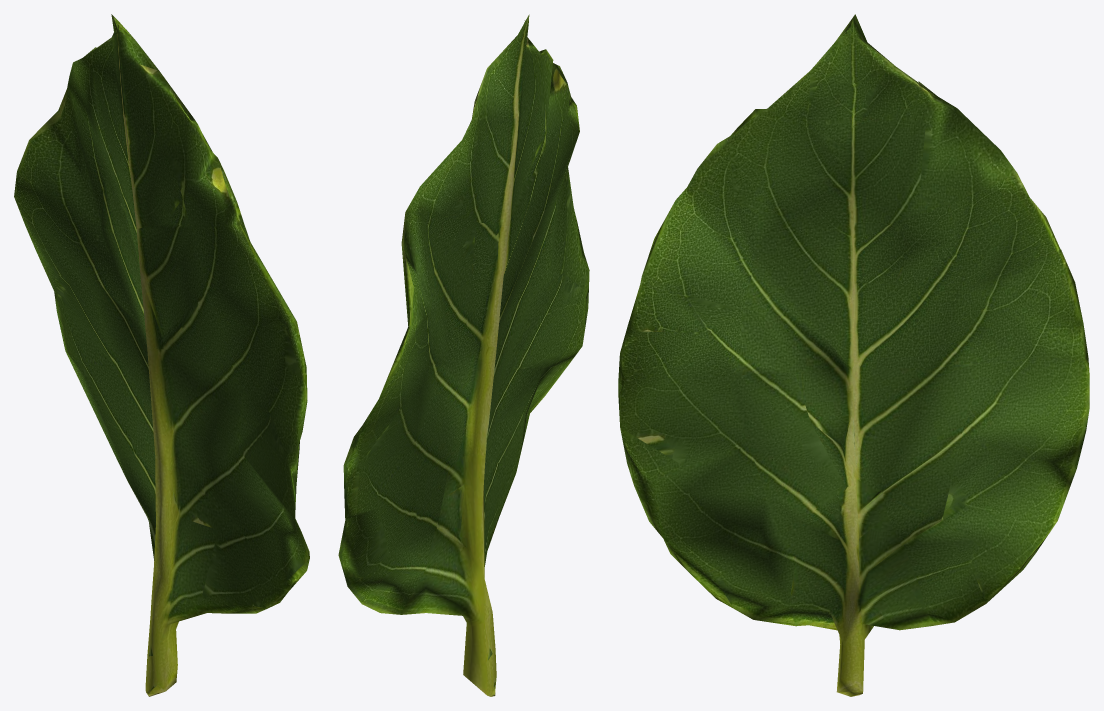
File: leafcard_lod1.glb
3 renders of one model, left to right at view 1: azimuth 30°, elevation 25°; view 2: azimuth 150°, elevation 25°; view 3: azimuth 270°, elevation 25°, orthographic. The views are drawn at different scales.
Parts seen in each view (by area): view 1: tripo_node_b59f5614-e054-414b-b1bf-3f1816f5cf16; view 2: tripo_node_b59f5614-e054-414b-b1bf-3f1816f5cf16; view 3: tripo_node_b59f5614-e054-414b-b1bf-3f1816f5cf16.
Part boxes in pixels (x1,y1,x2,y2): tripo_node_b59f5614-e054-414b-b1bf-3f1816f5cf16: [14, 14, 309, 696]; tripo_node_b59f5614-e054-414b-b1bf-3f1816f5cf16: [338, 14, 589, 696]; tripo_node_b59f5614-e054-414b-b1bf-3f1816f5cf16: [618, 14, 1089, 696].
Bounding box in the file's own units: 0.0226 × 0.1495 × 0.096.
Materials: 1 (1 with a texture image).
